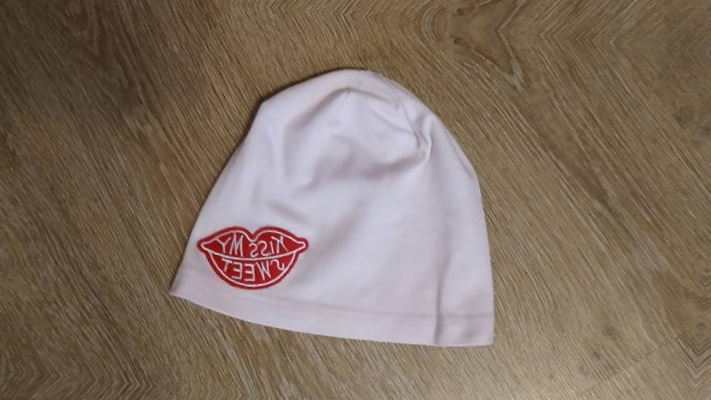Hat: (140, 39, 542, 361)
